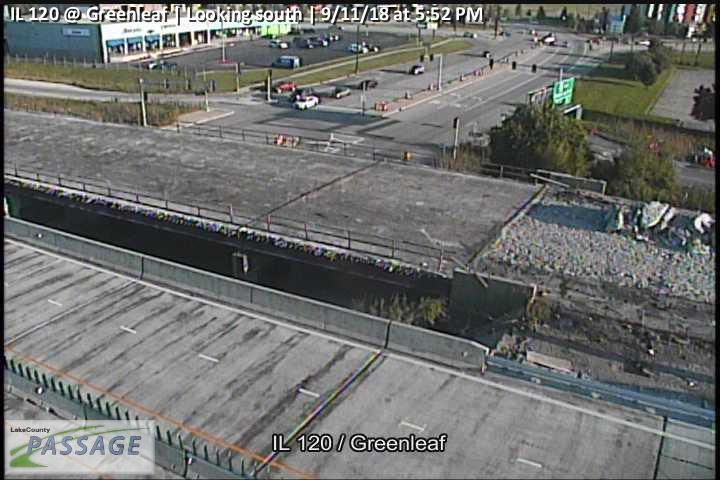SUV: (271, 55, 299, 69)
Sedan: (293, 95, 319, 110), (326, 87, 351, 100)
